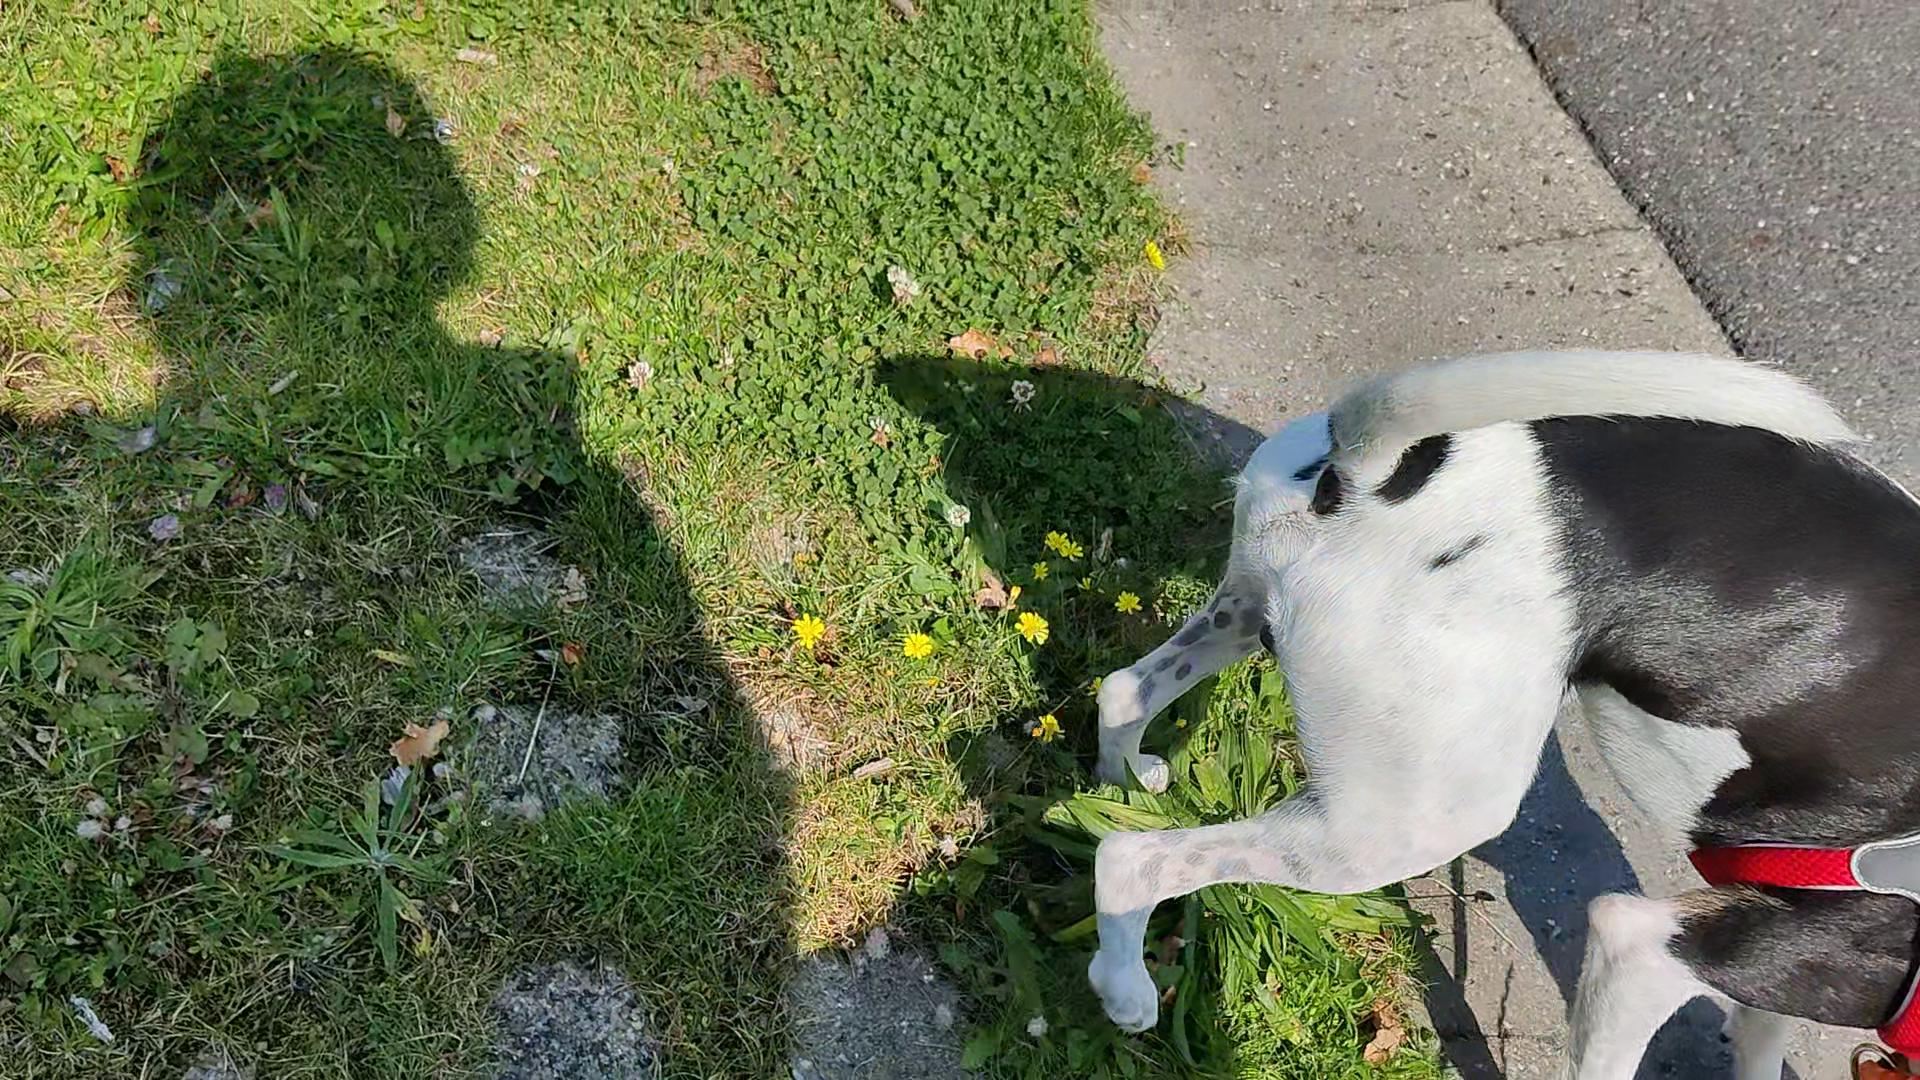Dog: (1042, 311, 1919, 1079)
